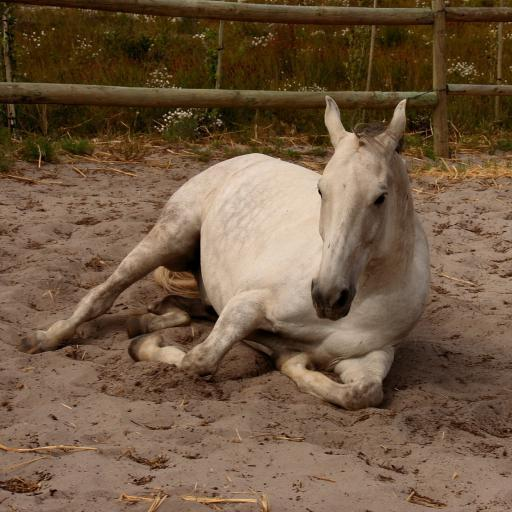horse: (18, 94, 430, 410)
